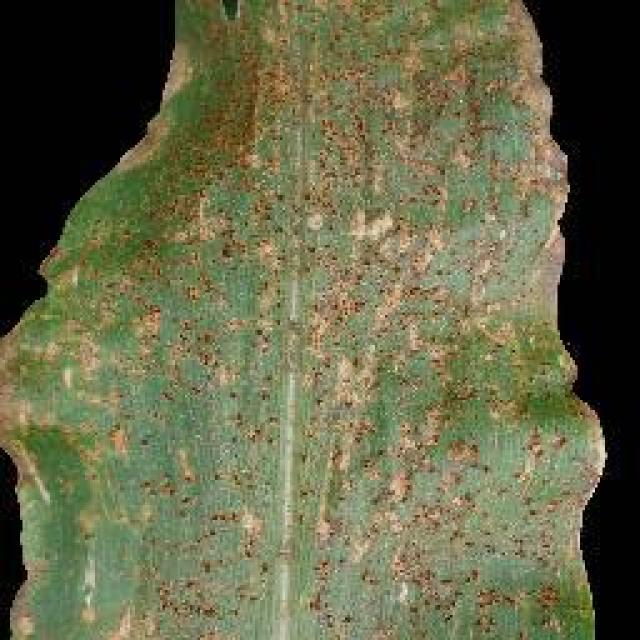Corn Common Rust: (127, 40, 640, 640)
